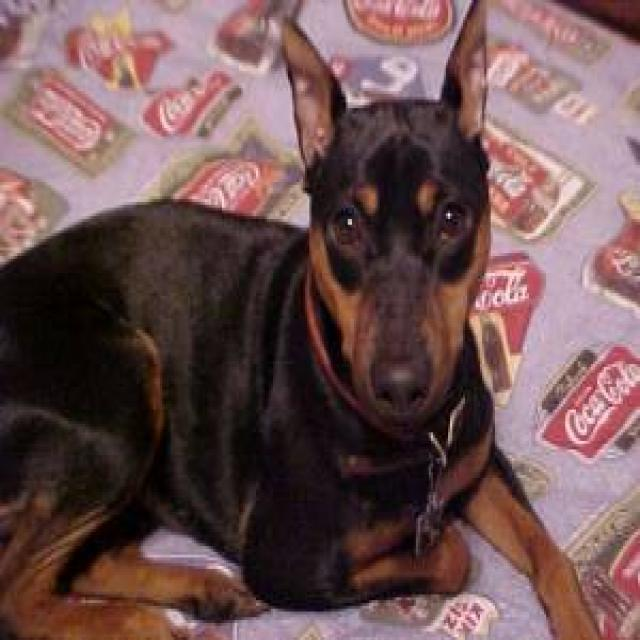dog-miniature_pinscher: (2, 3, 602, 634)
